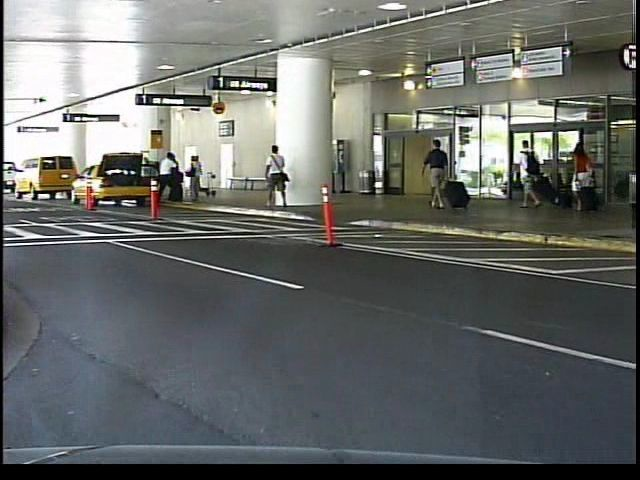person: (512, 135, 549, 215), (569, 132, 601, 220), (424, 135, 458, 211), (262, 141, 294, 214)
